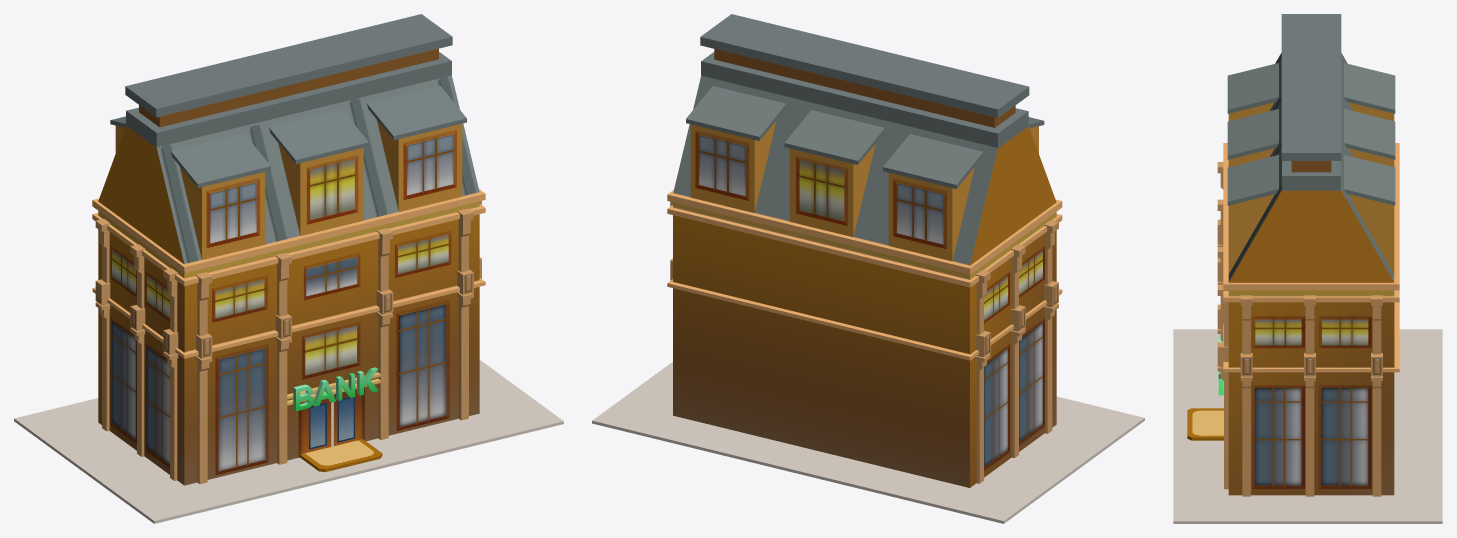
File: Bank.fbx
3 renders of one model, left to right at view 1: azimuth 30°, elevation 25°; view 2: azimuth 150°, elevation 25°; view 3: azimuth 270°, elevation 25°, orthographic. The views are drawn at different scales.
Visible parts, largest first — view 1: Object010; view 2: Object010; view 3: Object010.
Boxes of the visible parts, left/top/right/bottom form: Object010: left=14, top=14, right=563, bottom=523; Object010: left=592, top=14, right=1144, bottom=523; Object010: left=1173, top=14, right=1442, bottom=523.
Bounding box in the file's own units: 171 × 143 × 102.
